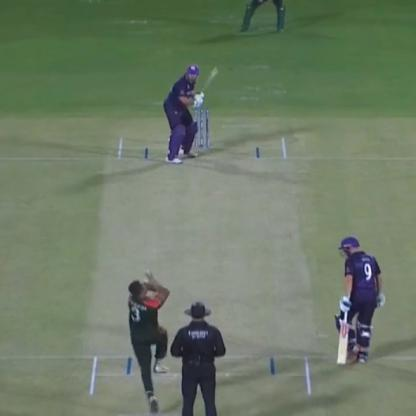ball: (136, 272, 154, 288)
bat: (196, 62, 226, 102)
pitch: (82, 130, 317, 401)
